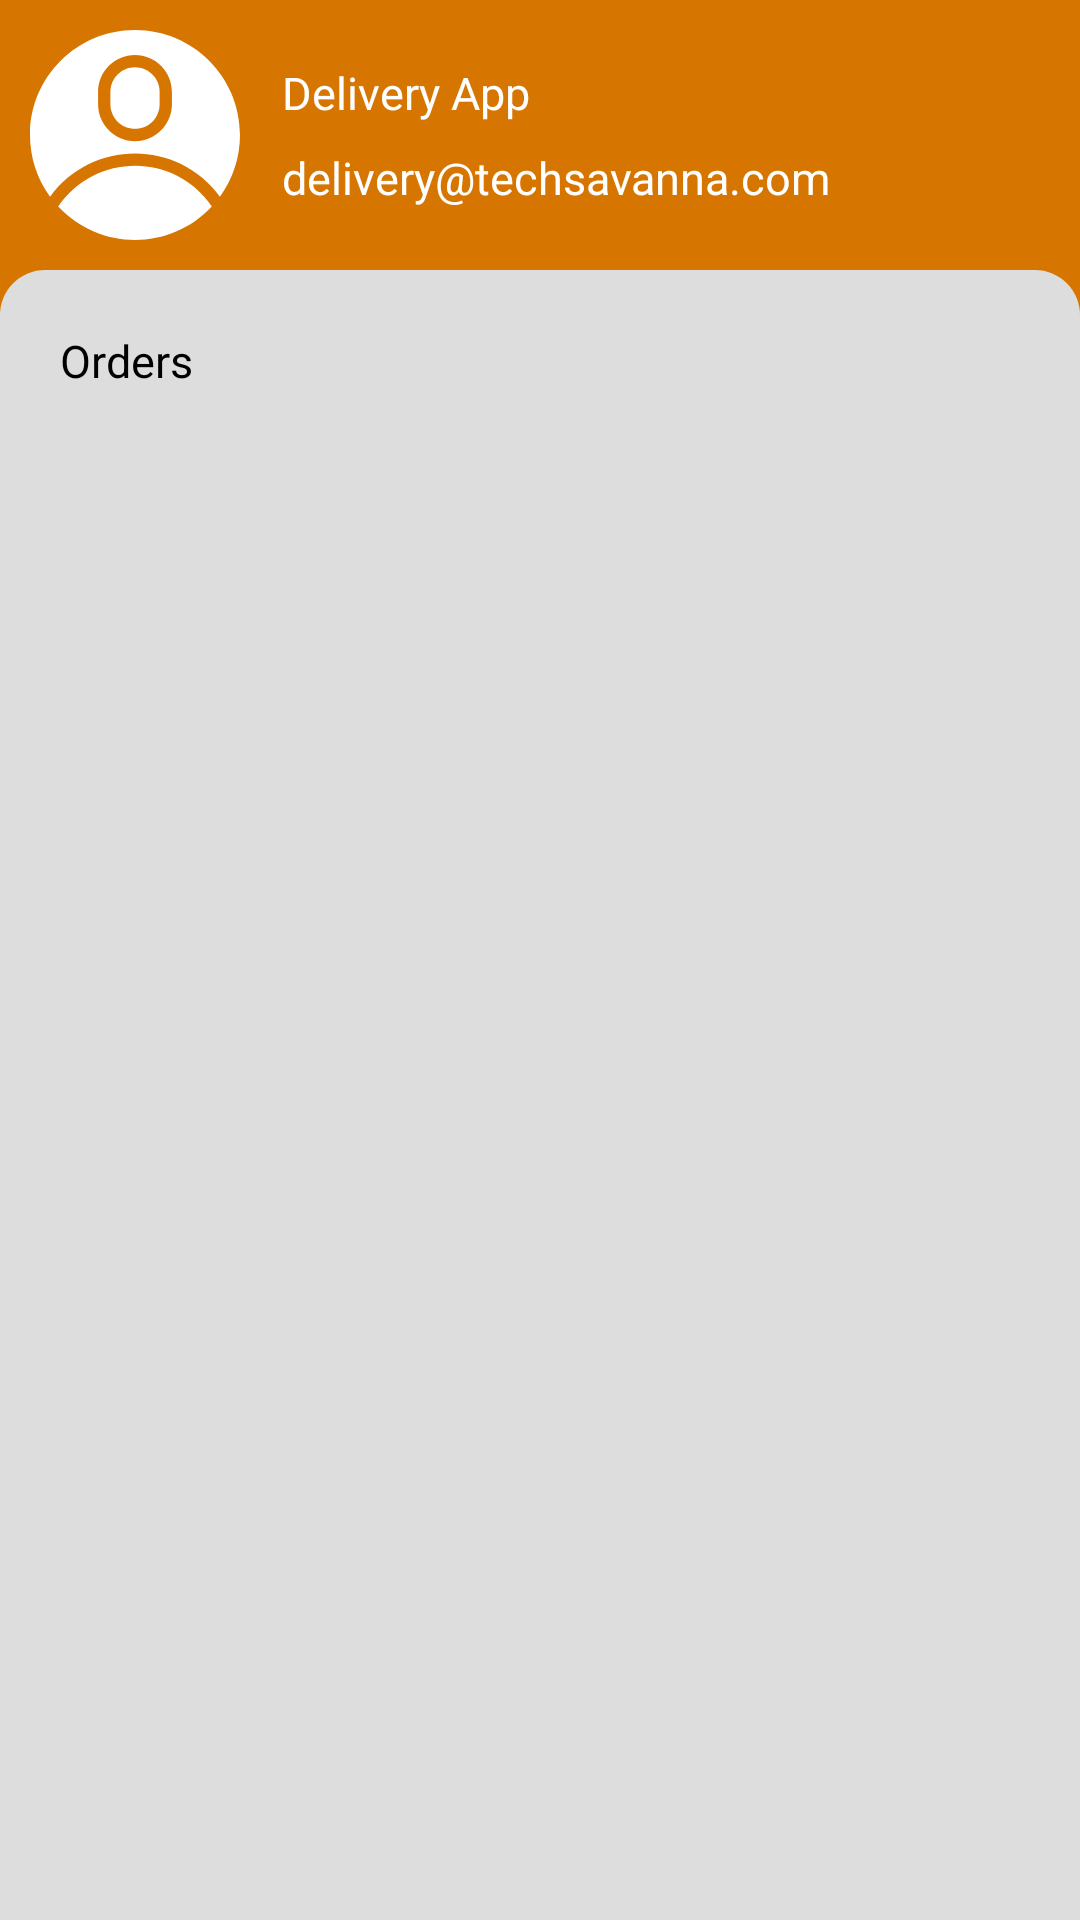

Icon click points for this 1080 × 1920 phone screenshot, format point (x, y):
account: point (135, 135)
